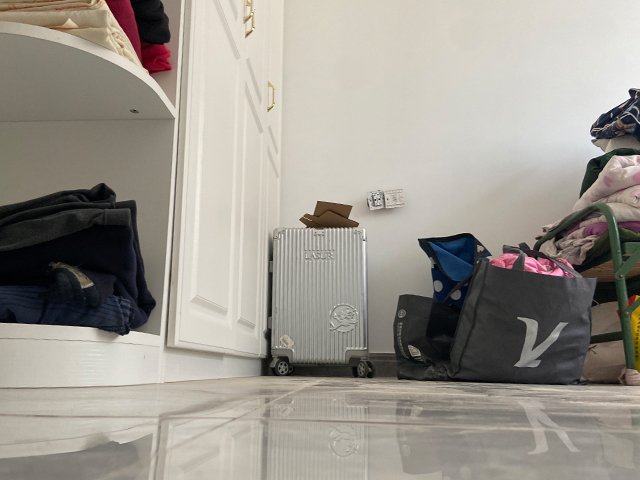cabinet: (1, 1, 284, 390)
